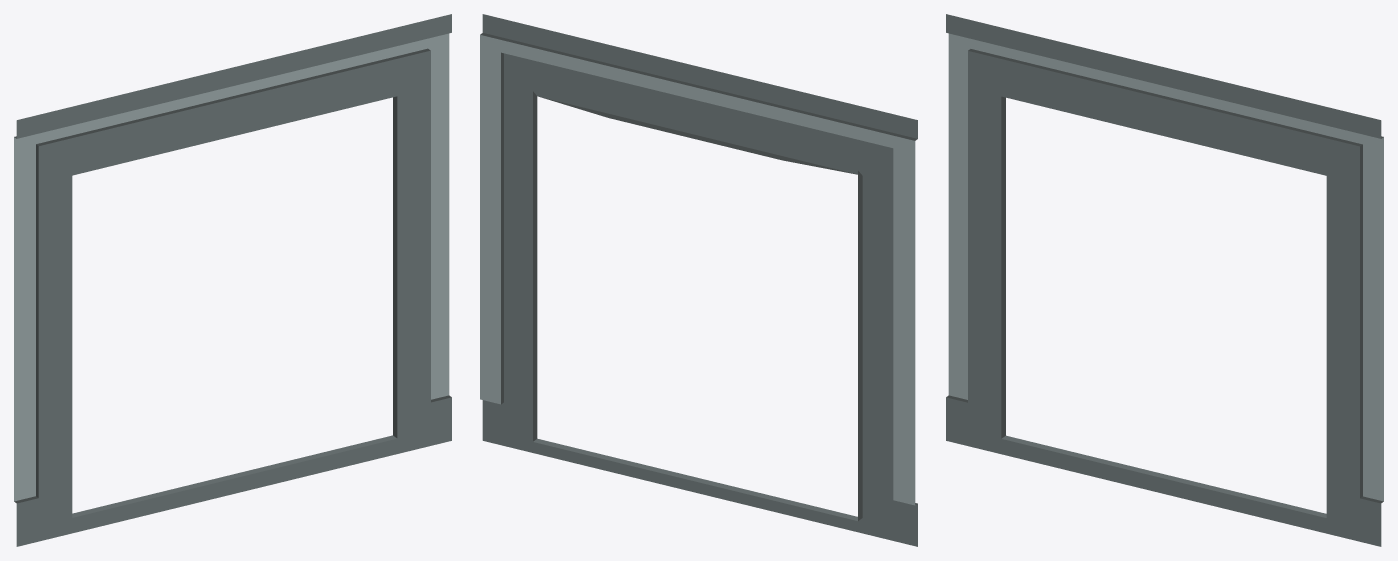
The model's file is WallDoor3.glb.
The picture shows the model from 3 angles, left to right: view 1: azimuth 30°, elevation 25°; view 2: azimuth 150°, elevation 25°; view 3: azimuth 330°, elevation 25°; orthographic projection.
Parts seen in each view (by area): view 1: SI_Env_Wall_Door_Largel_03; view 2: SI_Env_Wall_Door_Largel_03; view 3: SI_Env_Wall_Door_Largel_03.
Boxes of the visible parts, left/top/right/bottom form: SI_Env_Wall_Door_Largel_03: left=14, top=14, right=451, bottom=546; SI_Env_Wall_Door_Largel_03: left=480, top=14, right=917, bottom=546; SI_Env_Wall_Door_Largel_03: left=946, top=14, right=1383, bottom=546.
Size of the model in its own units: 0.05 by 0.0469 by 0.000885.
Materials: 1 (1 with a texture image).
